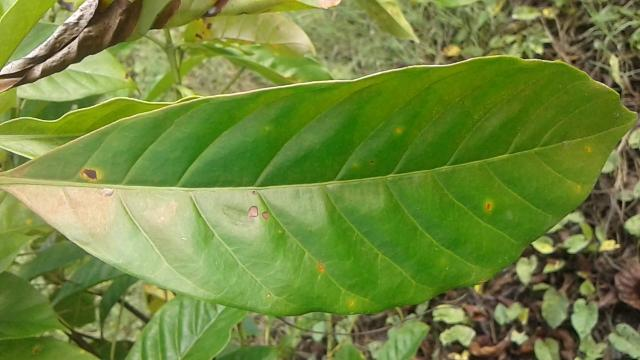rust_level_1: (0, 50, 640, 320)
